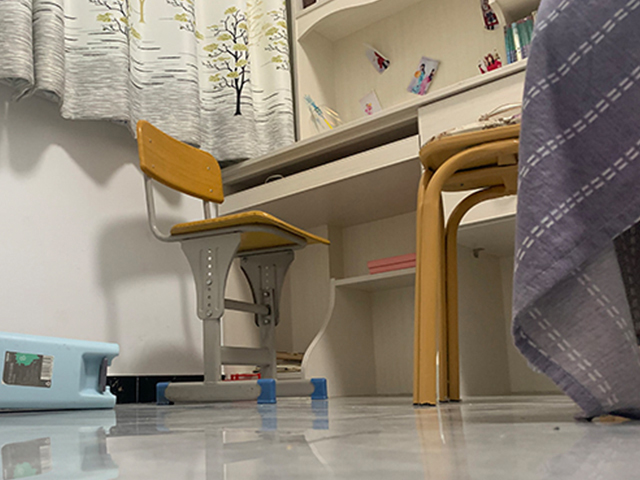stool: (137, 119, 331, 406), (413, 112, 526, 406)
table: (215, 59, 527, 396)
trashcan: (1, 332, 120, 413)
